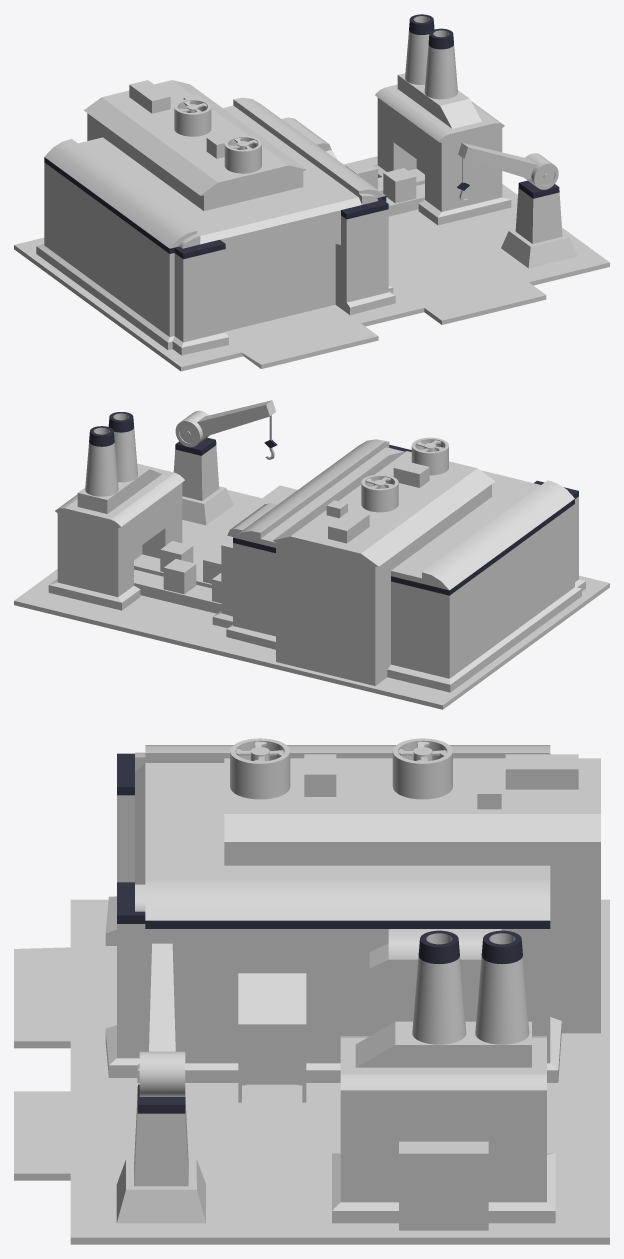
Rendered from war_factory.fbx.
3 renders of one model, top to bottom at view 1: azimuth 30°, elevation 25°; view 2: azimuth 150°, elevation 25°; view 3: azimuth 270°, elevation 25°, orthographic. The views are drawn at different scales.
Parts seen in each view (by area): view 1: Cube, Cube.001; view 2: Cube; view 3: Cube.
Boxes of the visible parts, x1,y1,x2,y2 form: Cube: (14,14,609,371); Cube.001: (225,236,335,331); Cube: (14,400,609,709); Cube: (14,738,609,1244).
Size of the model in its own units: 268 by 97.31 by 200.
